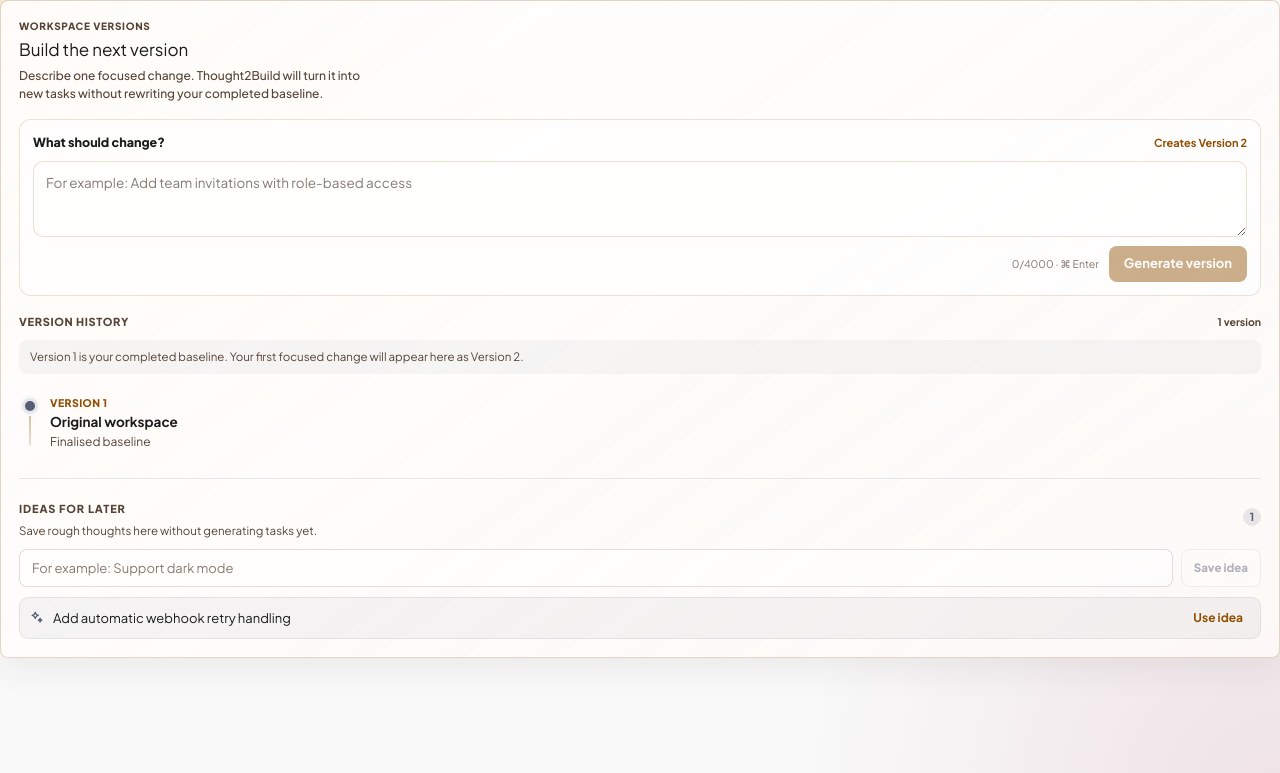
Test: IncrementTimeline › distinguishes an already-used promoted idea and allows removing it
Click the button "Use idea": coordinates (1218, 618) [1186,606,1250,630]
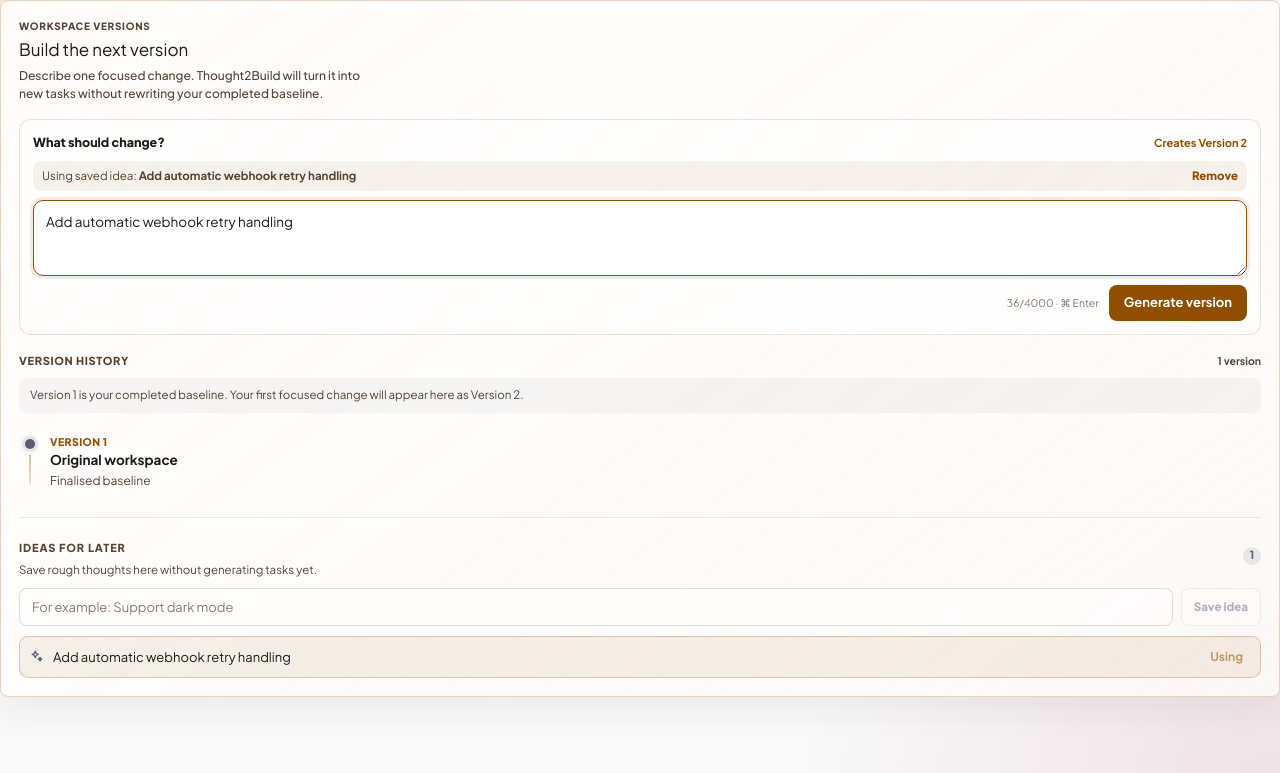
Now the text "Using saved idea: Add automatic webhook retry handling" is shown, box [42,168,356,184]
Click the button with aria-label "generate version 2": coordinates (1178, 302) [1109,284,1247,320]
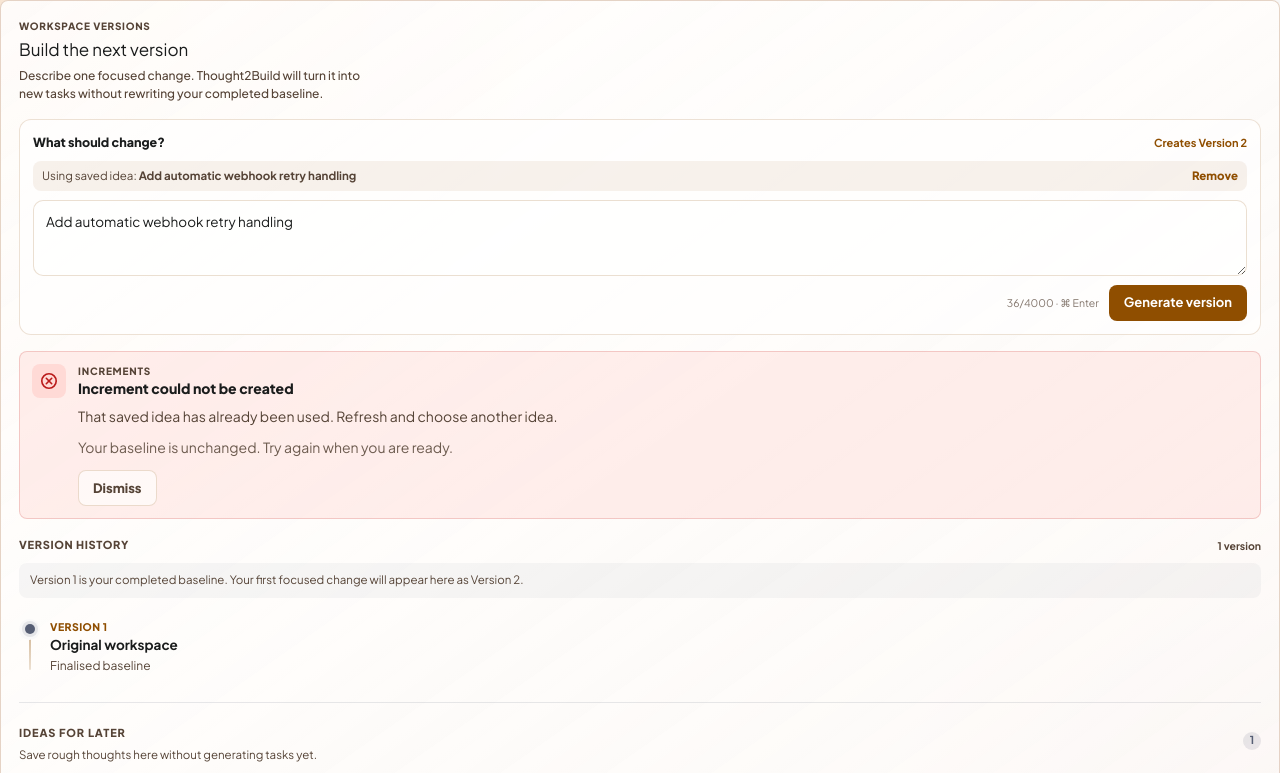
Now the text "already been used" is shown, box [78,406,558,424]
Click the button with aria-label "stop using saved idea": coordinates (1215, 176) [1192,168,1238,184]
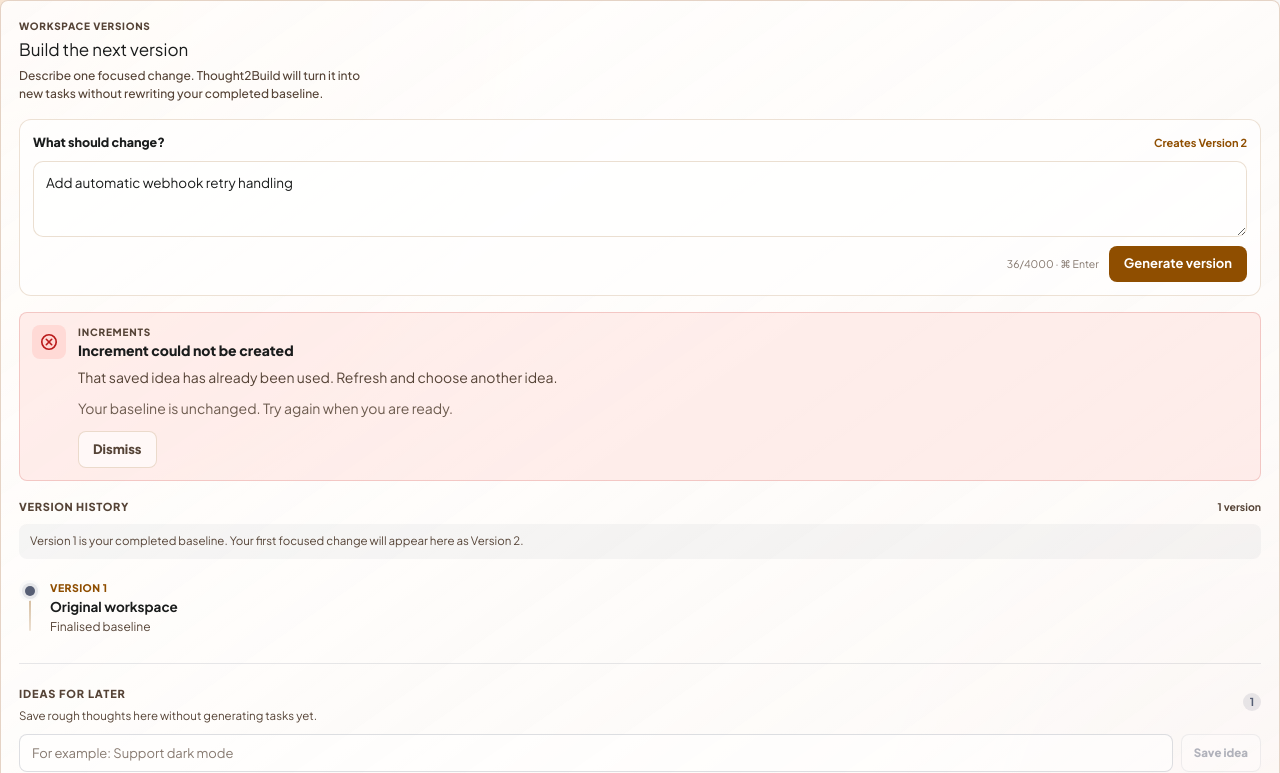
Now the text "Using saved idea" is gone
